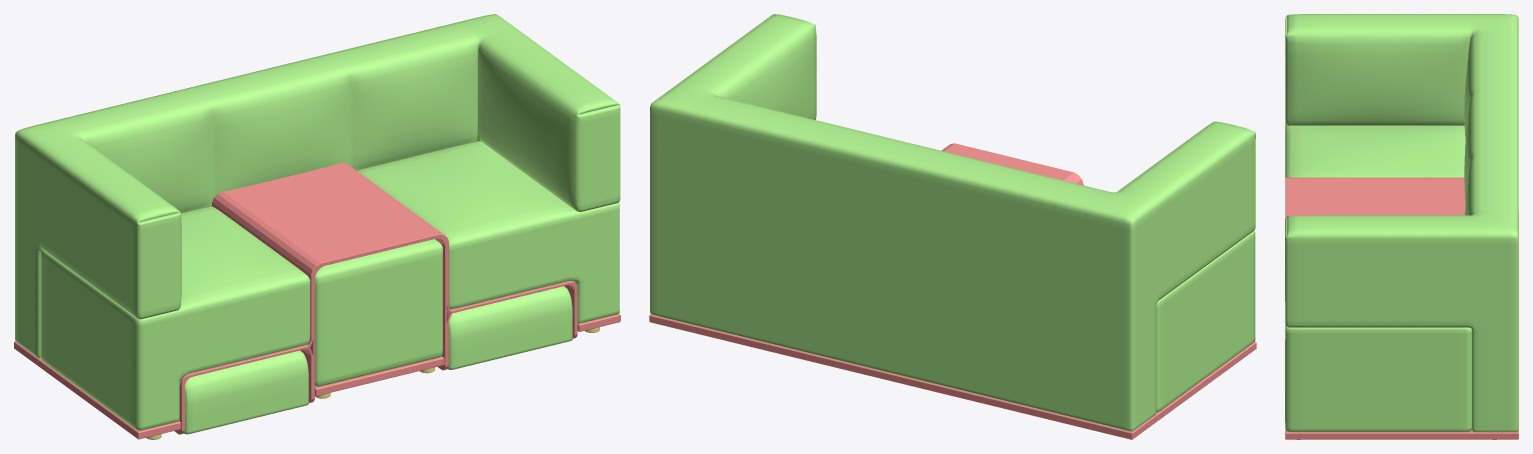
File: Sofa_11_fbx.FBX
The picture shows the model from 3 angles, left to right: view 1: azimuth 30°, elevation 25°; view 2: azimuth 150°, elevation 25°; view 3: azimuth 270°, elevation 25°; orthographic projection. The views are drawn at different scales.
Visible parts, largest first — view 1: Obj_03, Obj_01, Obj_09, Obj_07, Obj_04, Obj_02, Obj_08, Obj_o6; view 2: Obj_03, Obj_01, Obj_o6, Obj_07; view 3: Obj_03, Obj_09, Obj_01, Obj_07, Obj_o6.
Boxes of the visible parts, box(x1,y1,x2,y2) form: Obj_03: box(15, 14, 620, 358); Obj_01: box(40, 206, 310, 430); Obj_09: box(356, 141, 619, 323); Obj_07: box(174, 162, 577, 434); Obj_04: box(315, 239, 442, 386); Obj_02: box(183, 350, 308, 434); Obj_08: box(448, 286, 572, 369); Obj_o6: box(14, 313, 620, 439); Obj_03: box(650, 14, 1255, 431); Obj_01: box(1156, 231, 1255, 412); Obj_o6: box(649, 314, 1256, 439); Obj_07: box(941, 143, 1083, 185); Obj_03: box(1285, 14, 1518, 432); Obj_09: box(1285, 325, 1471, 432); Obj_01: box(1285, 124, 1465, 177); Obj_07: box(1285, 177, 1465, 219); Obj_o6: box(1285, 213, 1518, 439).
Bounding box in the file's own units: 67.26 × 30.06 × 30.52.
